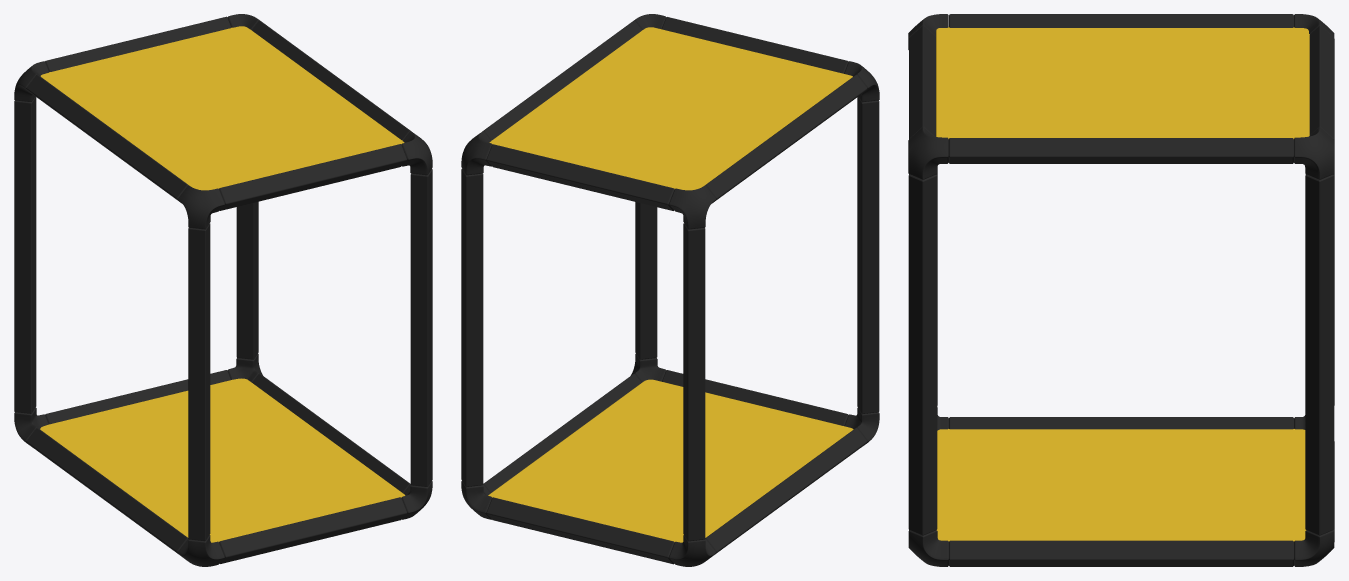
3 views of the same model, side by side, from view 1: azimuth 30°, elevation 25°; view 2: azimuth 150°, elevation 25°; view 3: azimuth 270°, elevation 25° (orthographic). The views are drawn at different scales.
Parts seen in each view (by area): view 1: 229x329x374; view 2: 229x329x374; view 3: 229x329x374.
Part boxes in pixels (box(x1,y1,x2,y2)): 229x329x374: box(14, 14, 432, 566); 229x329x374: box(461, 14, 879, 566); 229x329x374: box(908, 14, 1334, 566).
Size of the model in its own units: 0.3067 by 0.4516 by 0.4063.
